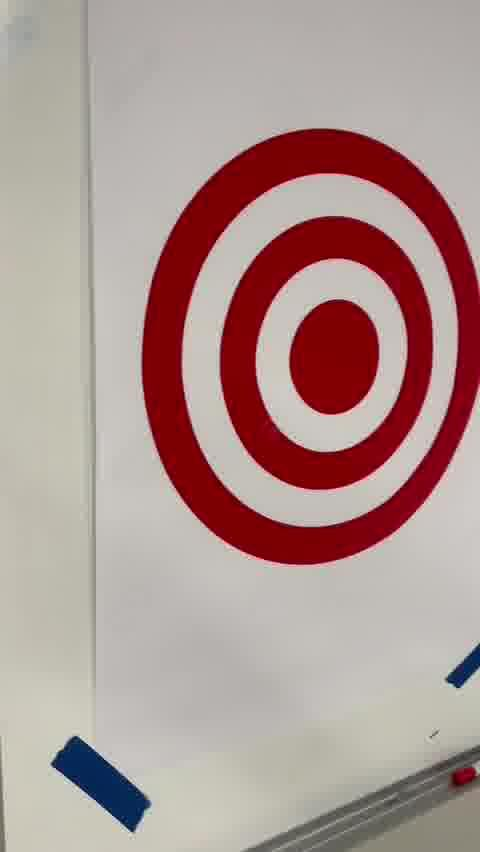target_red: (145, 128, 480, 562)
